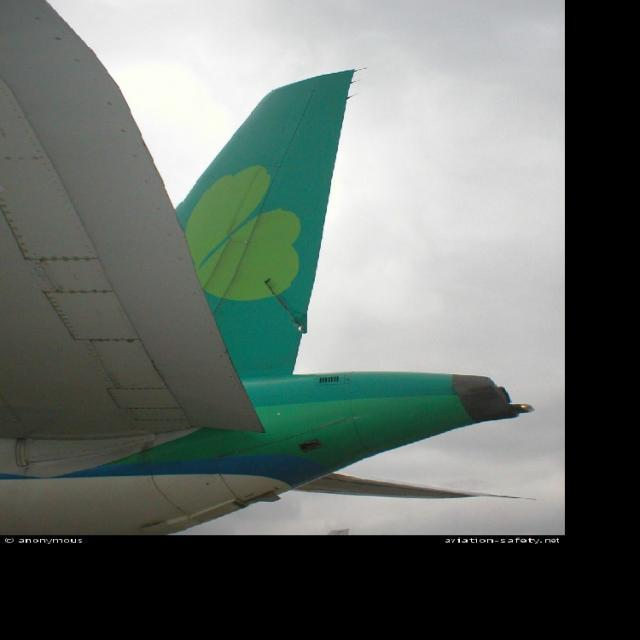crack: (263, 280, 316, 340)
